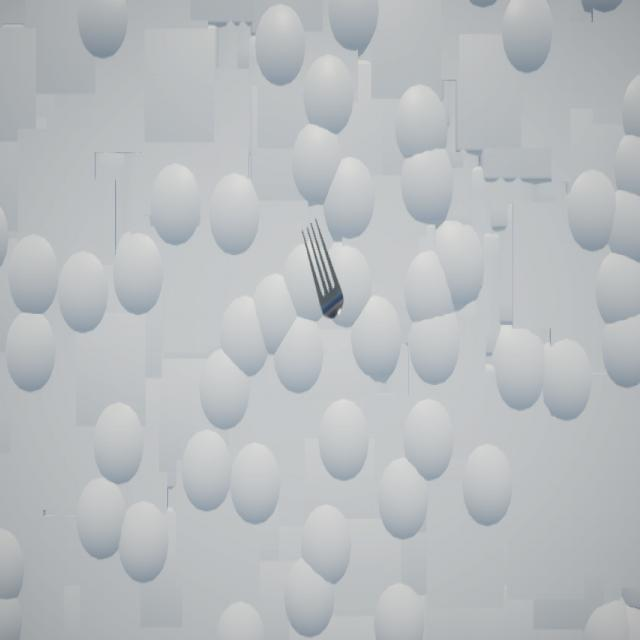top_folk: (303, 220, 345, 321)
